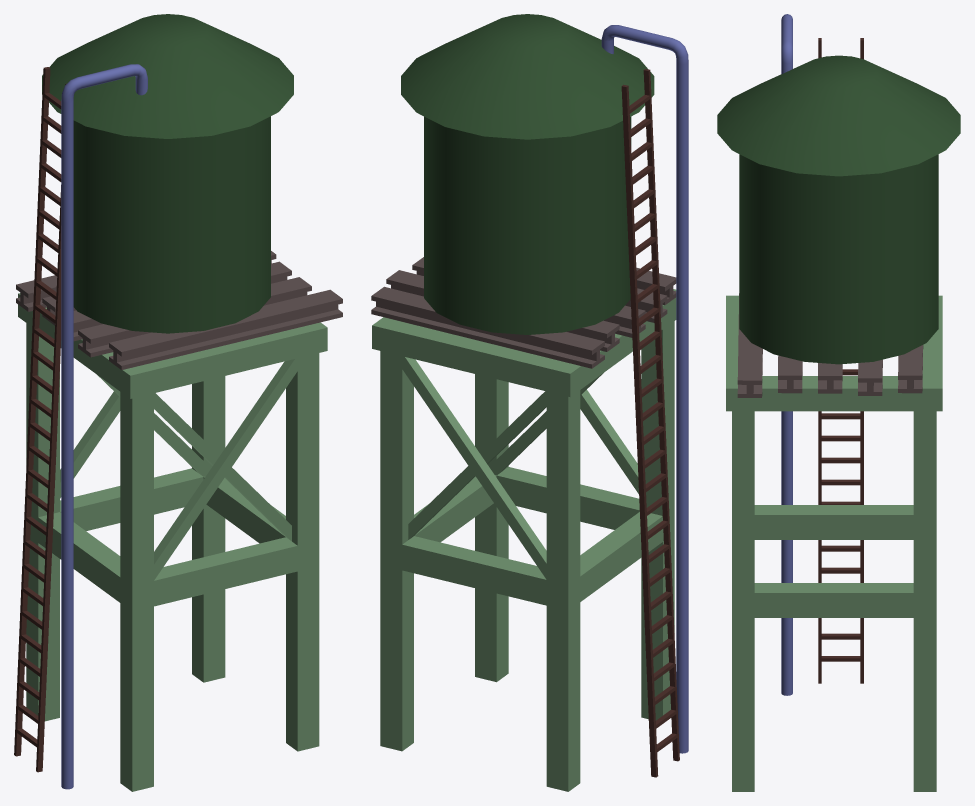
Rendered from Tanque agua_UV.fbx.
3 views of the same model, side by side, from view 1: azimuth 30°, elevation 25°; view 2: azimuth 150°, elevation 25°; view 3: azimuth 270°, elevation 25° (orthographic). The views are drawn at different scales.
Visible parts, largest first — view 1: Box010, Cylinder005, Box050, Cylinder015, Box045, Box051, Box052, Box054; view 2: Box010, Cylinder005, Box050, Cylinder015, Box054, Box053, Box052, Box045; view 3: Cylinder005, Box010, Box050, Cylinder015, Box045, Box054, Box051, Box053, Box052.
Boxes of the visible parts, x1,y1,x2,y2 form: Box010: (18, 293, 327, 791); Cylinder005: (42, 14, 293, 333); Box050: (14, 67, 66, 772); Cylinder015: (61, 64, 147, 789); Box045: (109, 289, 342, 369); Box051: (78, 277, 311, 357); Box052: (73, 261, 291, 341); Box054: (16, 275, 57, 311); Box010: (372, 289, 676, 791); Cylinder005: (401, 14, 654, 334); Box050: (621, 69, 679, 777); Cylinder015: (601, 25, 688, 753); Box054: (371, 286, 604, 368); Box053: (386, 270, 619, 351); Box052: (412, 257, 645, 337); Box045: (636, 267, 676, 305); Cylinder005: (717, 55, 960, 364); Box010: (726, 295, 942, 791); Box050: (818, 38, 863, 683); Cylinder015: (781, 14, 792, 695); Box045: (737, 293, 762, 397); Box054: (898, 345, 923, 393); Box051: (778, 355, 802, 393); Box053: (858, 359, 882, 395); Box052: (818, 363, 842, 393).
Bounding box in the file's own units: 47.81 × 122 × 39.58.
